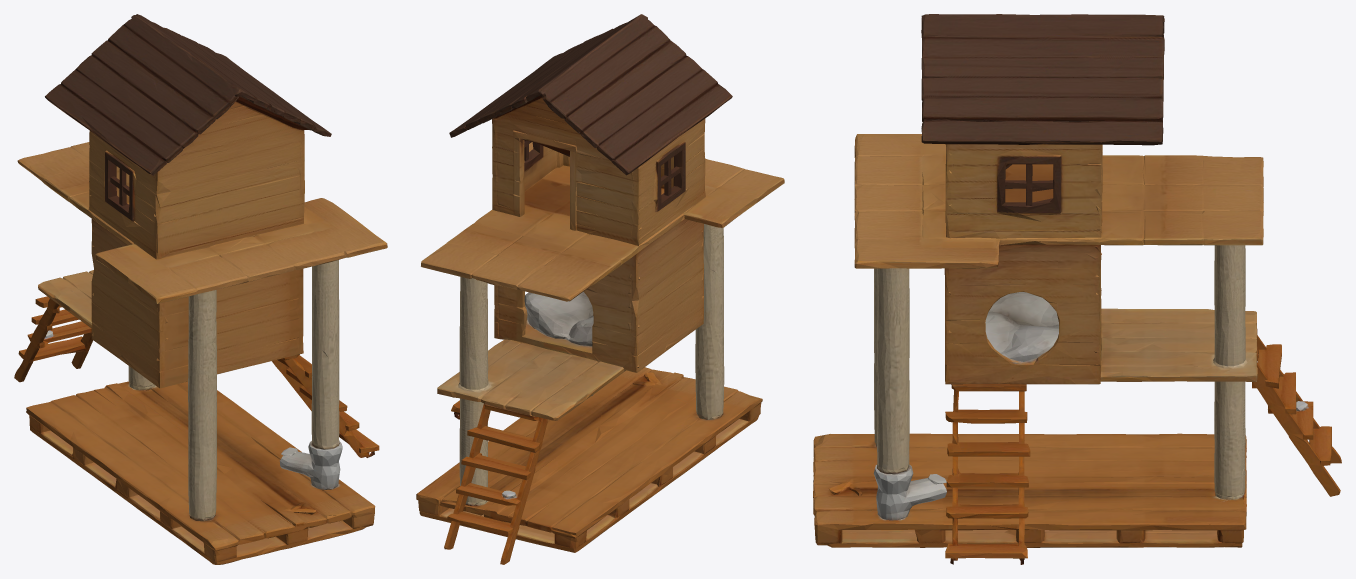
File: DOM_kotik_4__base.glb
3 renders of one model, left to right at view 1: azimuth 30°, elevation 25°; view 2: azimuth 150°, elevation 25°; view 3: azimuth 270°, elevation 25°, orthographic. The views are drawn at different scales.
Visible parts, largest first — view 1: tripo_node_d50f0e9b-f207-4178-975e-82a5e4044c8c; view 2: tripo_node_d50f0e9b-f207-4178-975e-82a5e4044c8c; view 3: tripo_node_d50f0e9b-f207-4178-975e-82a5e4044c8c.
Part boxes in pixels (left/top/right/bottom): tripo_node_d50f0e9b-f207-4178-975e-82a5e4044c8c: left=14, top=14, right=387, bottom=564; tripo_node_d50f0e9b-f207-4178-975e-82a5e4044c8c: left=416, top=14, right=784, bottom=564; tripo_node_d50f0e9b-f207-4178-975e-82a5e4044c8c: left=813, top=14, right=1341, bottom=564.
Bounding box in the file's own units: 0.6438 × 1 × 0.9839.
Materials: 1 (1 with a texture image).
